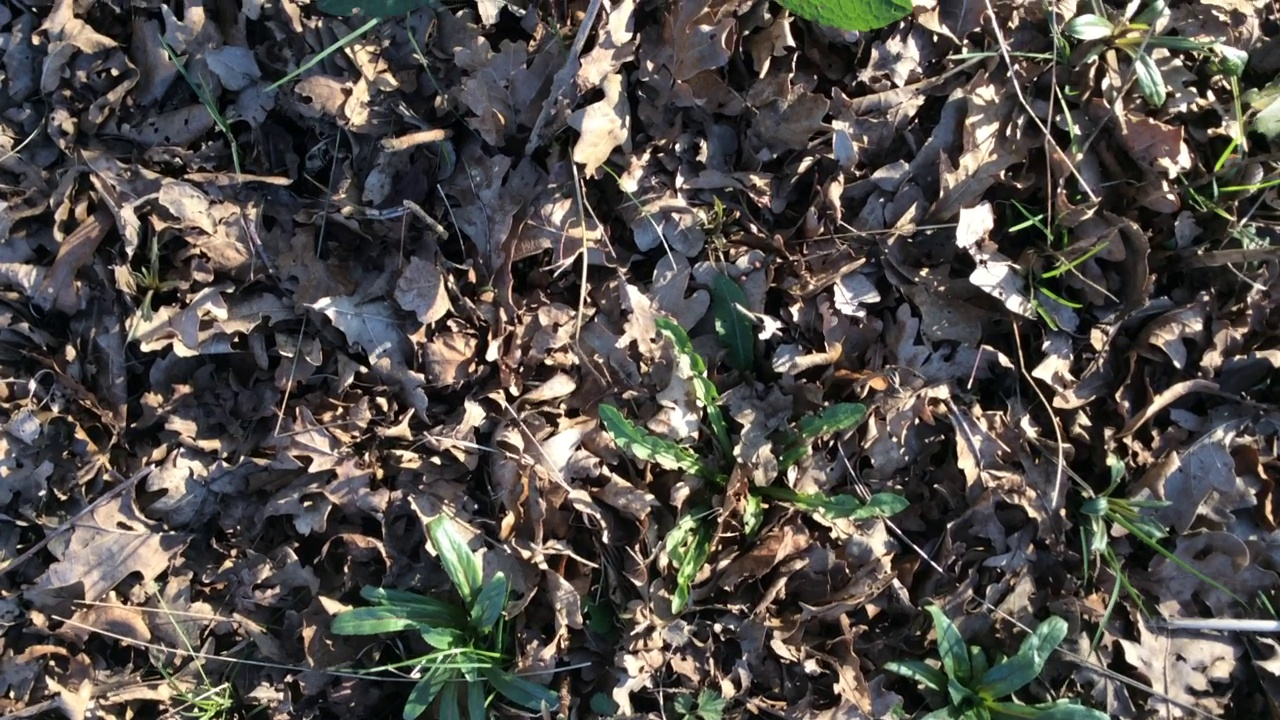rumex: (777, 1, 913, 33)
